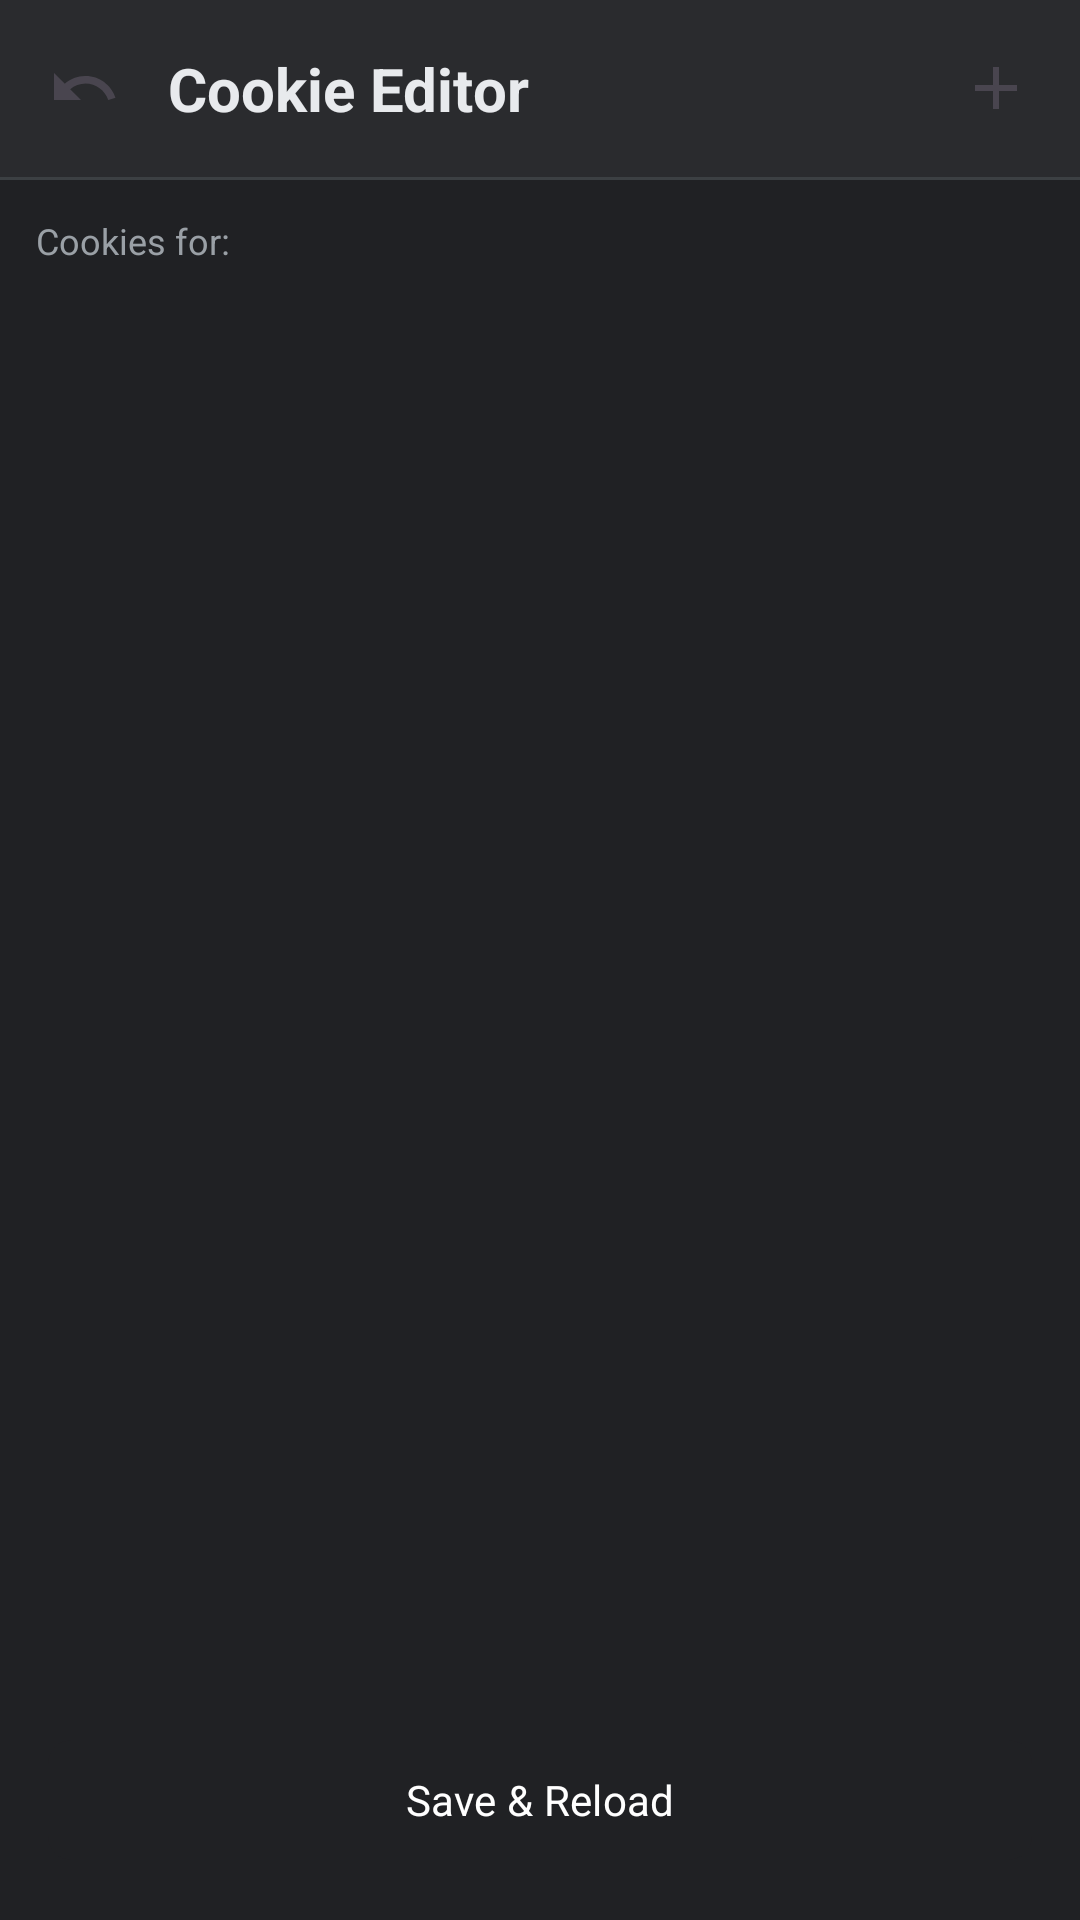

Icons on this 1080px×1920px Android screen, each with the point to tap as [x,y]:
Add Cookie: [996,88]
Back: [84,87]
